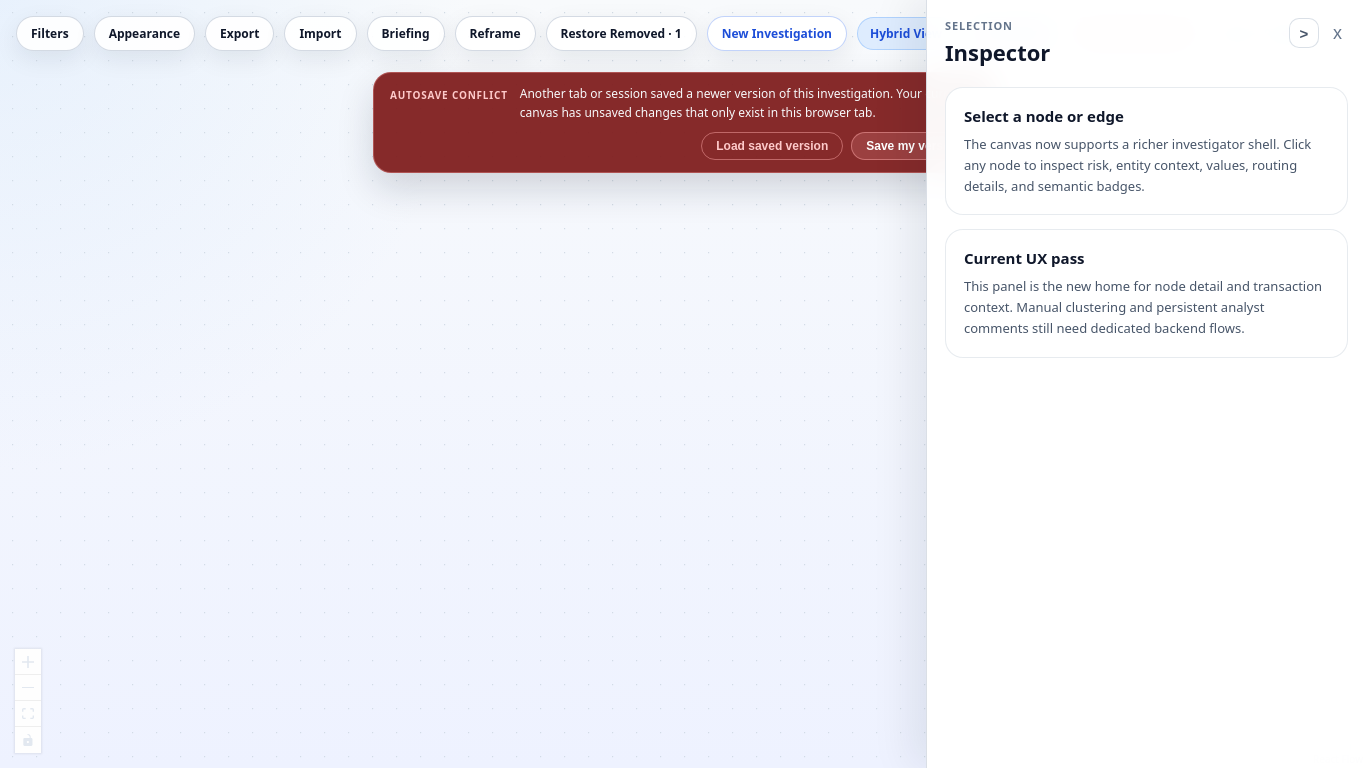
Test case: InvestigationGraph backend autosave › recovers via reload: fetches server snapshot, imports it, and resumes autosave
Click the button "Load saved version". click: [772, 146]
box: [701,132,843,160]
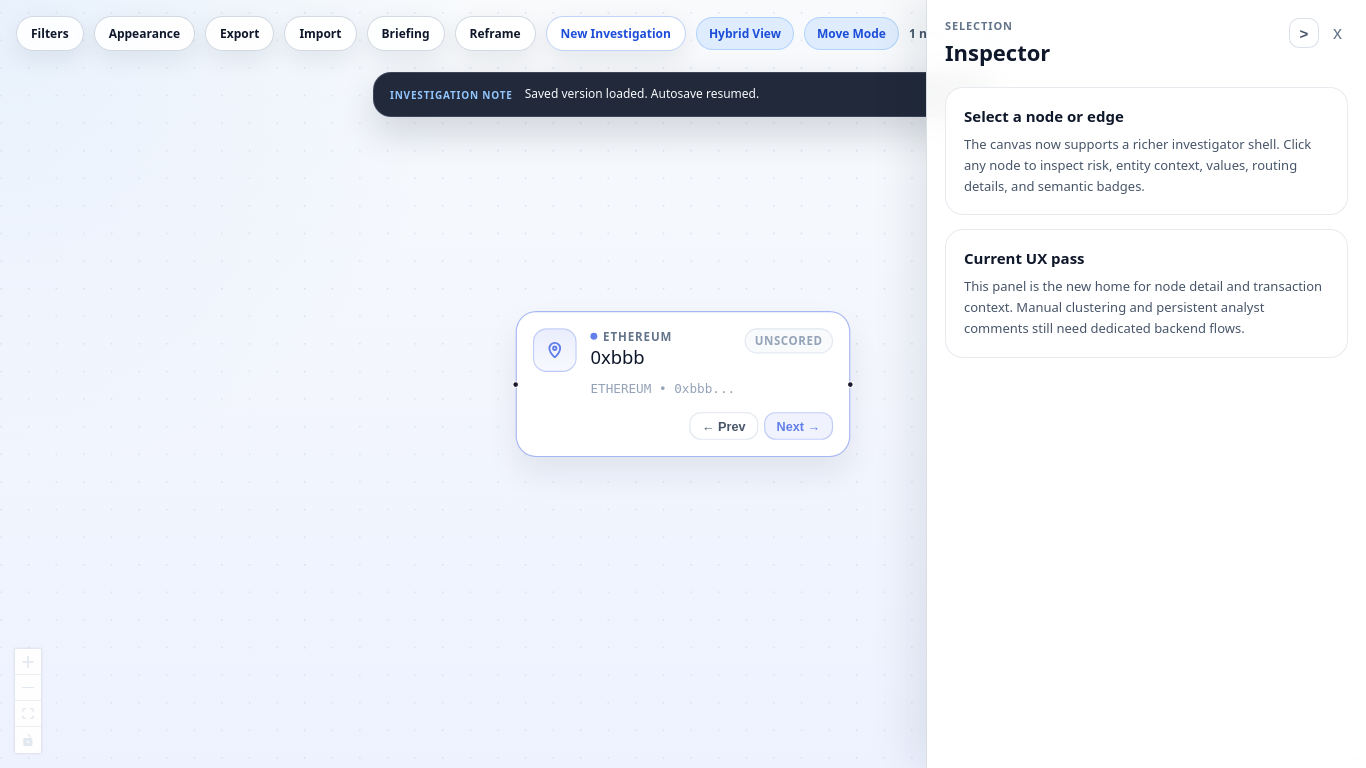
Expected: the text "Autosave paused" is not shown
Expected: the text "Autosave conflict" is gone
Expected: the text "Autosave resumed" is shown, [525,85,759,102]
